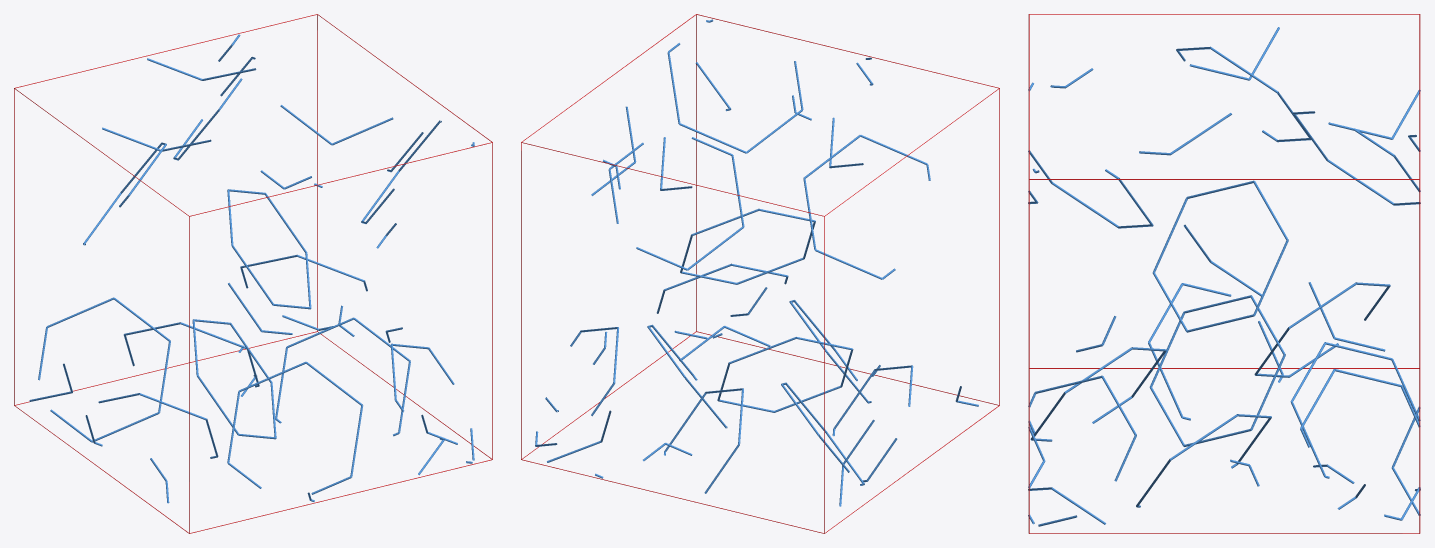
The model's file is DDD0_prismatic_aug1_visible_wbox_noemission.glb.
3 views of the same model, side by side, from view 1: azimuth 30°, elevation 25°; view 2: azimuth 150°, elevation 25°; view 3: azimuth 270°, elevation 25° (orthographic). The views are drawn at different scales.
Visible parts, largest first — view 1: Shape_IndexedLineSet.001, Shape_IndexedLineSet; view 2: Shape_IndexedLineSet.001, Shape_IndexedLineSet; view 3: Shape_IndexedLineSet.001, Shape_IndexedLineSet.
Part boxes in pixels (x1,y1,x2,y2): Shape_IndexedLineSet.001: [29, 34, 474, 503]; Shape_IndexedLineSet: [14, 14, 492, 533]; Shape_IndexedLineSet.001: [535, 19, 978, 506]; Shape_IndexedLineSet: [521, 14, 999, 533]; Shape_IndexedLineSet.001: [1028, 27, 1420, 526]; Shape_IndexedLineSet: [1028, 14, 1420, 533].
Size of the model in its own units: 10.05 by 10.05 by 10.05.
